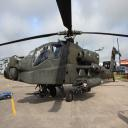helicopter: (3, 2, 128, 104)
